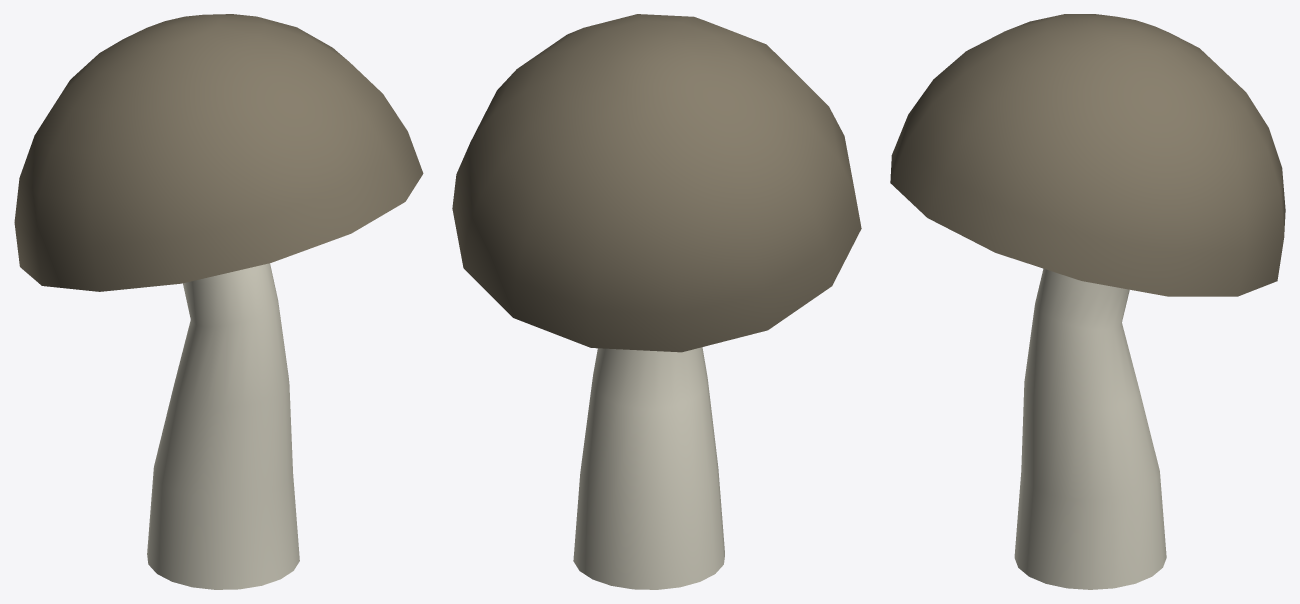
Rendered from paddenstoel1.fbx.
3 renders of one model, left to right at view 1: azimuth 30°, elevation 25°; view 2: azimuth 150°, elevation 25°; view 3: azimuth 270°, elevation 25°, orthographic.
Parts seen in each view (by area): view 1: polySurface190; view 2: polySurface190; view 3: polySurface190.
Part boxes in pixels (x1,y1,x2,y2): polySurface190: (14,14,423,589); polySurface190: (452,14,861,589); polySurface190: (890,14,1285,589).
Bounding box in the file's own units: 0.2106 × 0.2981 × 0.2043.
